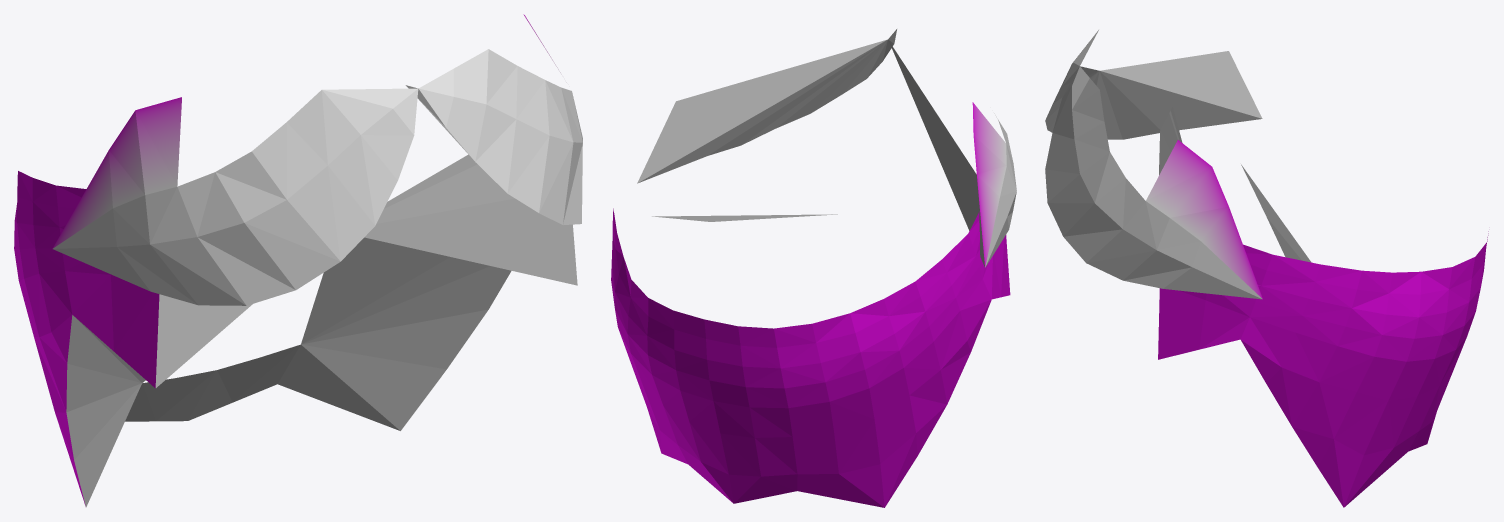
The picture shows the model from 3 angles, left to right: view 1: azimuth 30°, elevation 25°; view 2: azimuth 150°, elevation 25°; view 3: azimuth 270°, elevation 25°; orthographic projection. The views are drawn at different scales.
Parts seen in each view (by area): view 1: shape; view 2: shape; view 3: shape.
Part boxes in pixels (left/top/right/bottom): shape: left=14, top=14, right=582, bottom=507; shape: left=611, top=29, right=1016, bottom=507; shape: left=1045, top=30, right=1488, bottom=507.
Size of the model in its own units: 56.99 by 57.64 by 59.4.
